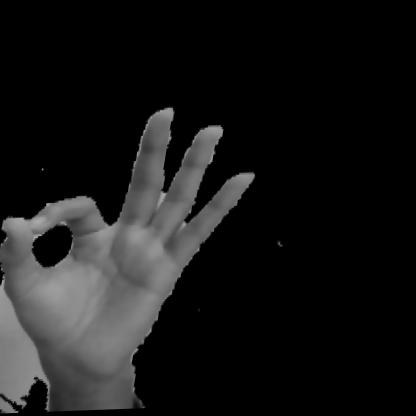ok: (0, 94, 285, 413)
